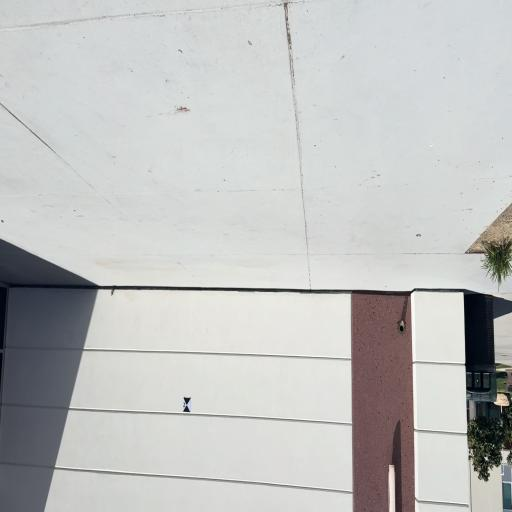target7: (183, 397, 191, 412)
